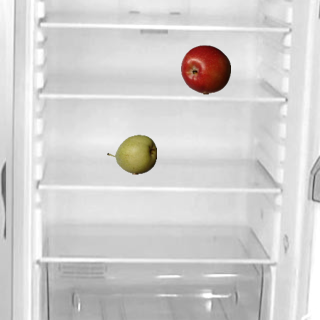Apple Braeburn: (180, 44, 230, 94)
Pear: (106, 129, 156, 179)
